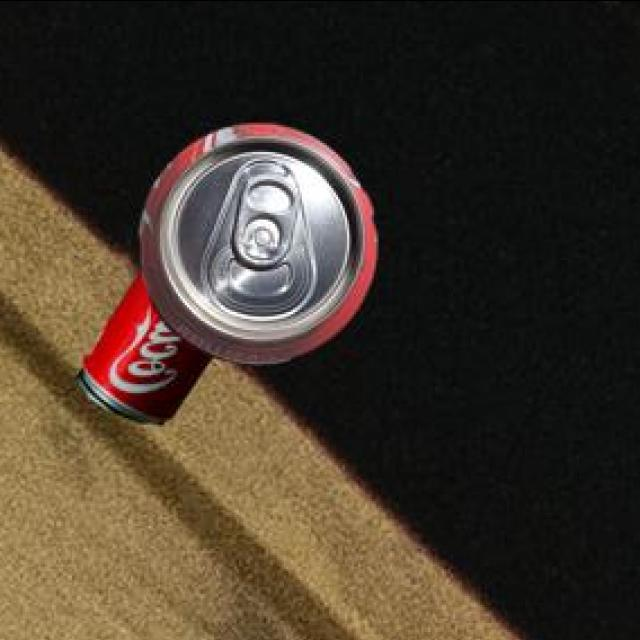logam: (143, 127, 380, 366), (80, 274, 215, 427)
